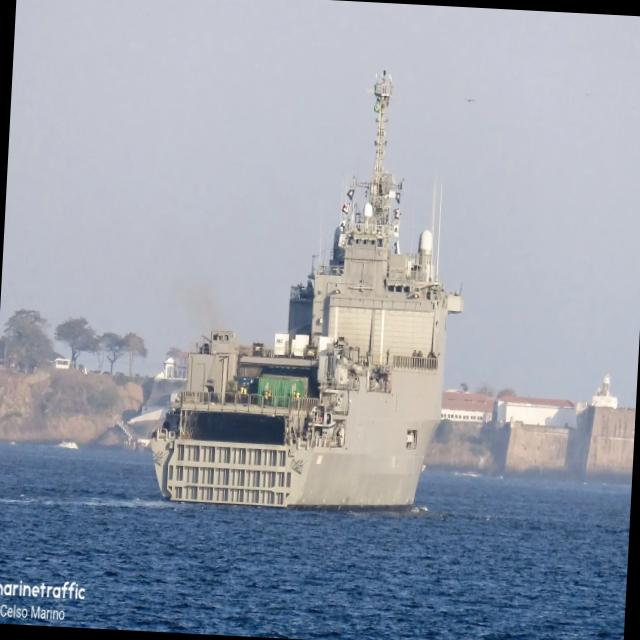Military: (151, 73, 463, 509)
